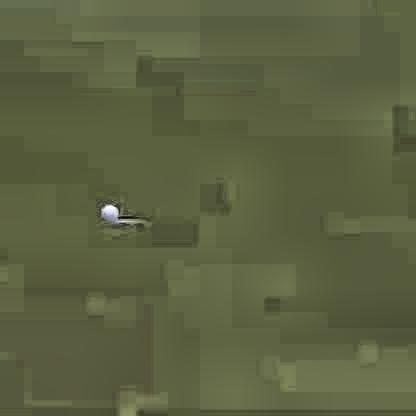golfball: (98, 201, 115, 219)
